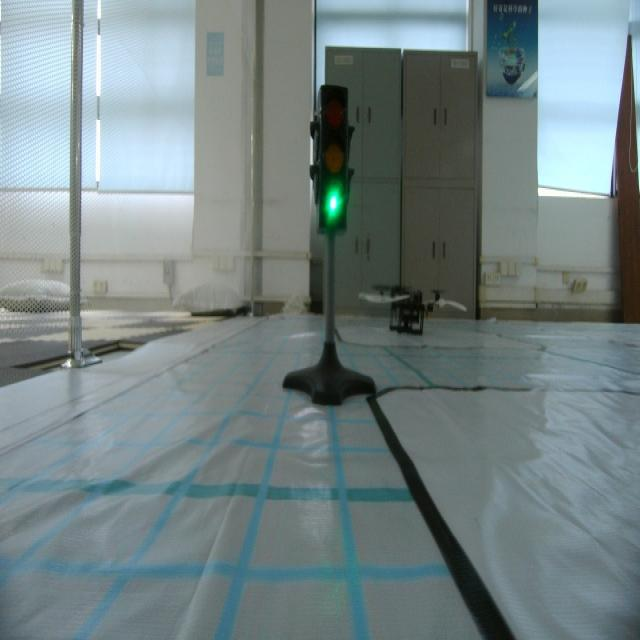green: (307, 84, 355, 240)
